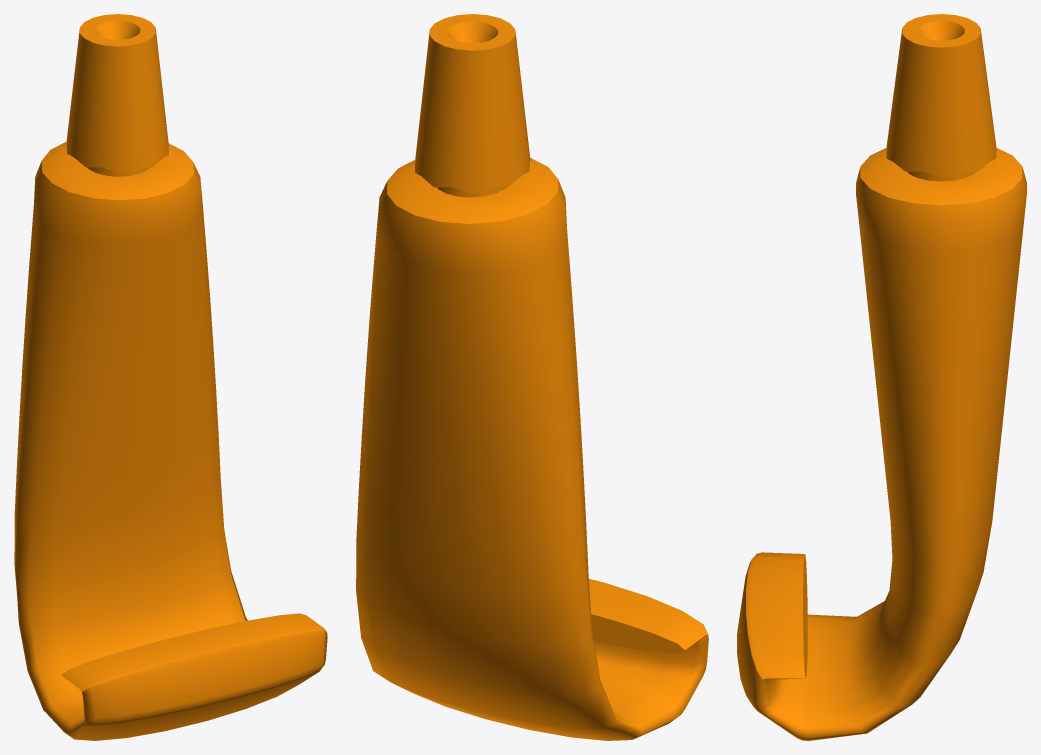
The model's file is Paints1.fbx.
The picture shows the model from 3 angles, left to right: view 1: azimuth 30°, elevation 25°; view 2: azimuth 150°, elevation 25°; view 3: azimuth 270°, elevation 25°; orthographic projection. The views are drawn at different scales.
Parts seen in each view (by area): view 1: Paints; view 2: Paints; view 3: Paints.
Part boxes in pixels (x1=…): Paints: x1=14, y1=14, x2=327, y2=740; Paints: x1=356, y1=14, x2=708, y2=740; Paints: x1=737, y1=14, x2=1026, y2=740.
Bounding box in the file's own units: 6.58 × 16.57 × 6.51.
